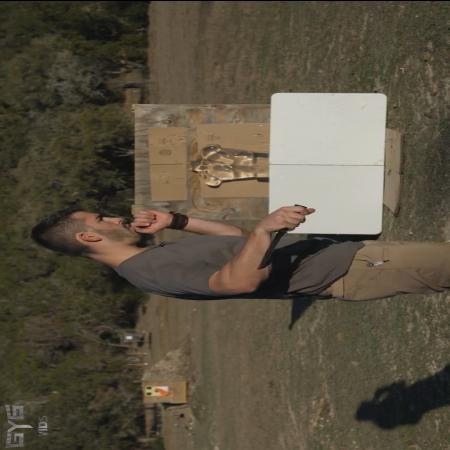long weapon: (246, 199, 316, 272)
